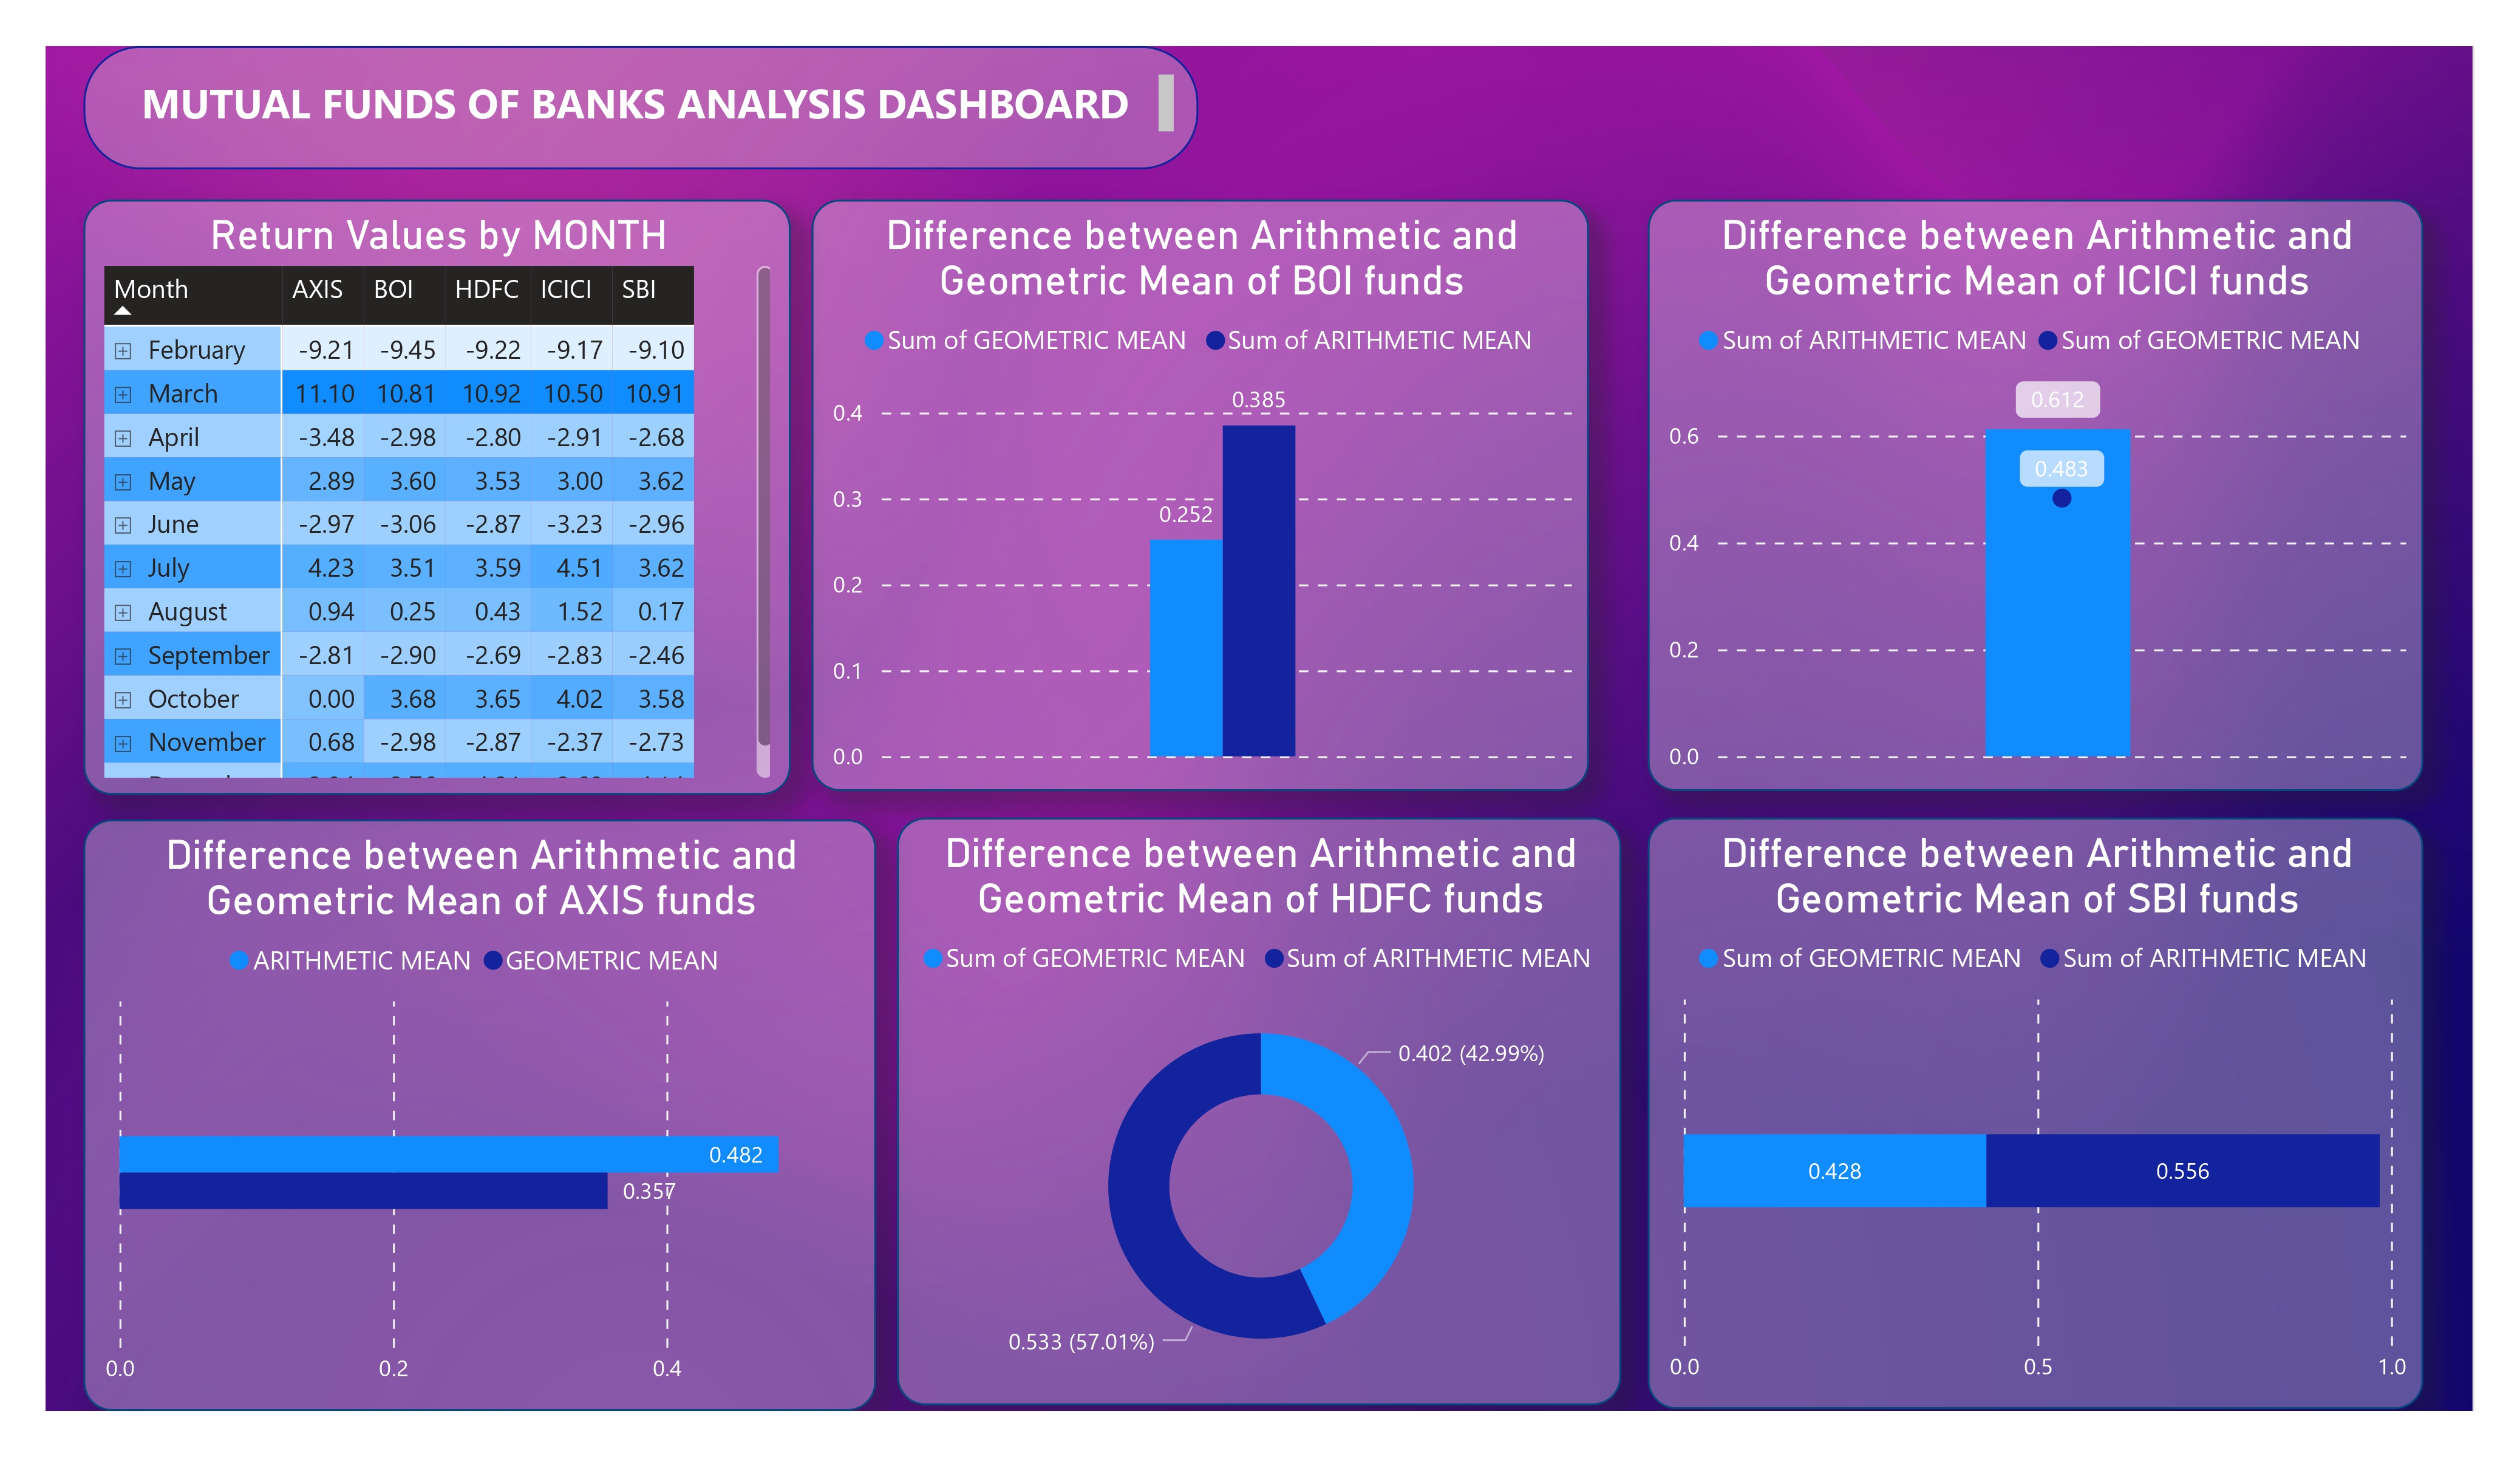

What the dashboard file says about the page in this screenshot:
{"tool":"powerbi","page":{"name":"COMPARISON","canvas":[1280,720],"ordinal":5},"visuals":[{"type":"textbox","box":[19.5,0,589,64.6],"z":0},{"type":"pivotTable","title":"Return Values by MONTH","fields":{"Rows":["AXIS.MONTH.Variation.Date Hierarchy.Month","AXIS.MONTH.Variation.Date Hierarchy.Day"],"Values":["Sum(sheet1.AXIS)","Sum(sheet1.BOI)","Sum(sheet1.HDFC)","Sum(sheet1.ICICI)","Sum(sheet1.SBI)"]},"box":[19.8,80.8,372.8,314.6],"z":1000},{"type":"clusteredBarChart","title":"Difference between Arithmetic and Geometric Mean of AXIS funds","fields":{"Y":["Sum(axis (2).ARITHMETIC MEAN)","Sum(axis (2).GEOMETRIC MEAN )"]},"box":[19.8,408.2,418.1,311.8],"z":2000},{"type":"clusteredColumnChart","title":"Difference between Arithmetic and Geometric Mean of BOI funds","fields":{"Y":["Sum(boi (2).GEOMETRIC MEAN )","Sum(boi (2).ARITHMETIC MEAN)"]},"box":[403.9,80.8,409.6,311.8],"z":3000},{"type":"lineClusteredColumnComboChart","title":"Difference between Arithmetic and Geometric Mean of ICICI funds","fields":{"Y2":["Sum(icici (2).GEOMETRIC MEAN )"],"Y":["Sum(icici (2).ARITHMETIC MEAN)"]},"box":[844.7,80.8,409.6,311.8],"z":5000},{"type":"donutChart","title":"Difference between Arithmetic and Geometric Mean of  HDFC funds","fields":{"Y":["Sum(hdfc (2).GEOMETRIC MEAN )","Sum(hdfc (2).ARITHMETIC MEAN)"]},"box":[449.3,406.8,381.3,310.4],"z":5001},{"type":"barChart","title":"Difference between Arithmetic and Geometric Mean of SBI funds","fields":{"Y":["Sum(sbi (2).GEOMETRIC MEAN )","Sum(sbi (2).ARITHMETIC MEAN)"]},"box":[844.7,406.8,409.6,311.8],"z":5002}]}

Visuals, with their boxes on the page's 1280x720 design canvas (x1, y1, x2, y2). These are canvas units, not pixel positions in the 2520x1457 screenshot, which may show the page scaled, cropped or inside an application window:
textbox: {"left": 20, "top": 0, "right": 608, "bottom": 65}
"Return Values by MONTH" pivotTable: {"left": 20, "top": 81, "right": 393, "bottom": 395}
"Difference between Arithmetic and Geometric Mean of AXIS funds" clusteredBarChart: {"left": 20, "top": 408, "right": 438, "bottom": 720}
"Difference between Arithmetic and Geometric Mean of BOI funds" clusteredColumnChart: {"left": 404, "top": 81, "right": 814, "bottom": 393}
"Difference between Arithmetic and Geometric Mean of ICICI funds" lineClusteredColumnComboChart: {"left": 845, "top": 81, "right": 1254, "bottom": 393}
"Difference between Arithmetic and Geometric Mean of  HDFC funds" donutChart: {"left": 449, "top": 407, "right": 831, "bottom": 717}
"Difference between Arithmetic and Geometric Mean of SBI funds" barChart: {"left": 845, "top": 407, "right": 1254, "bottom": 719}
